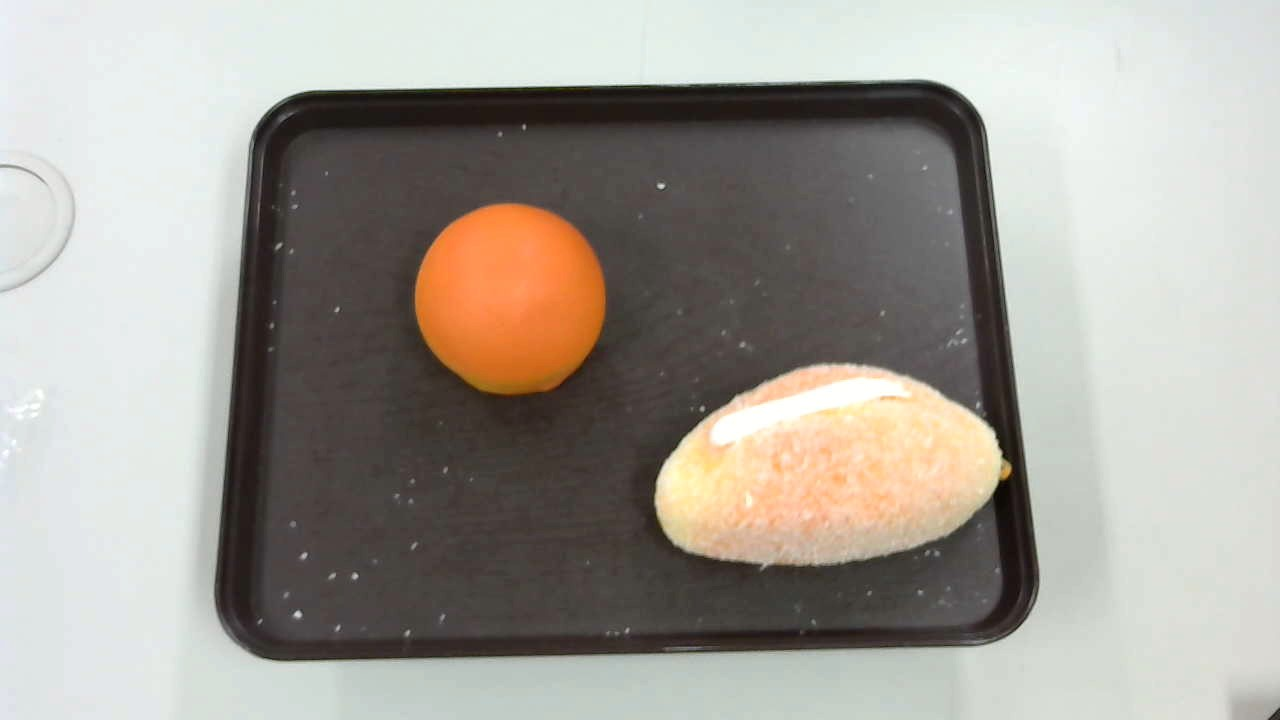bun: (413, 202, 605, 397)
coconut: (654, 363, 1012, 567)
